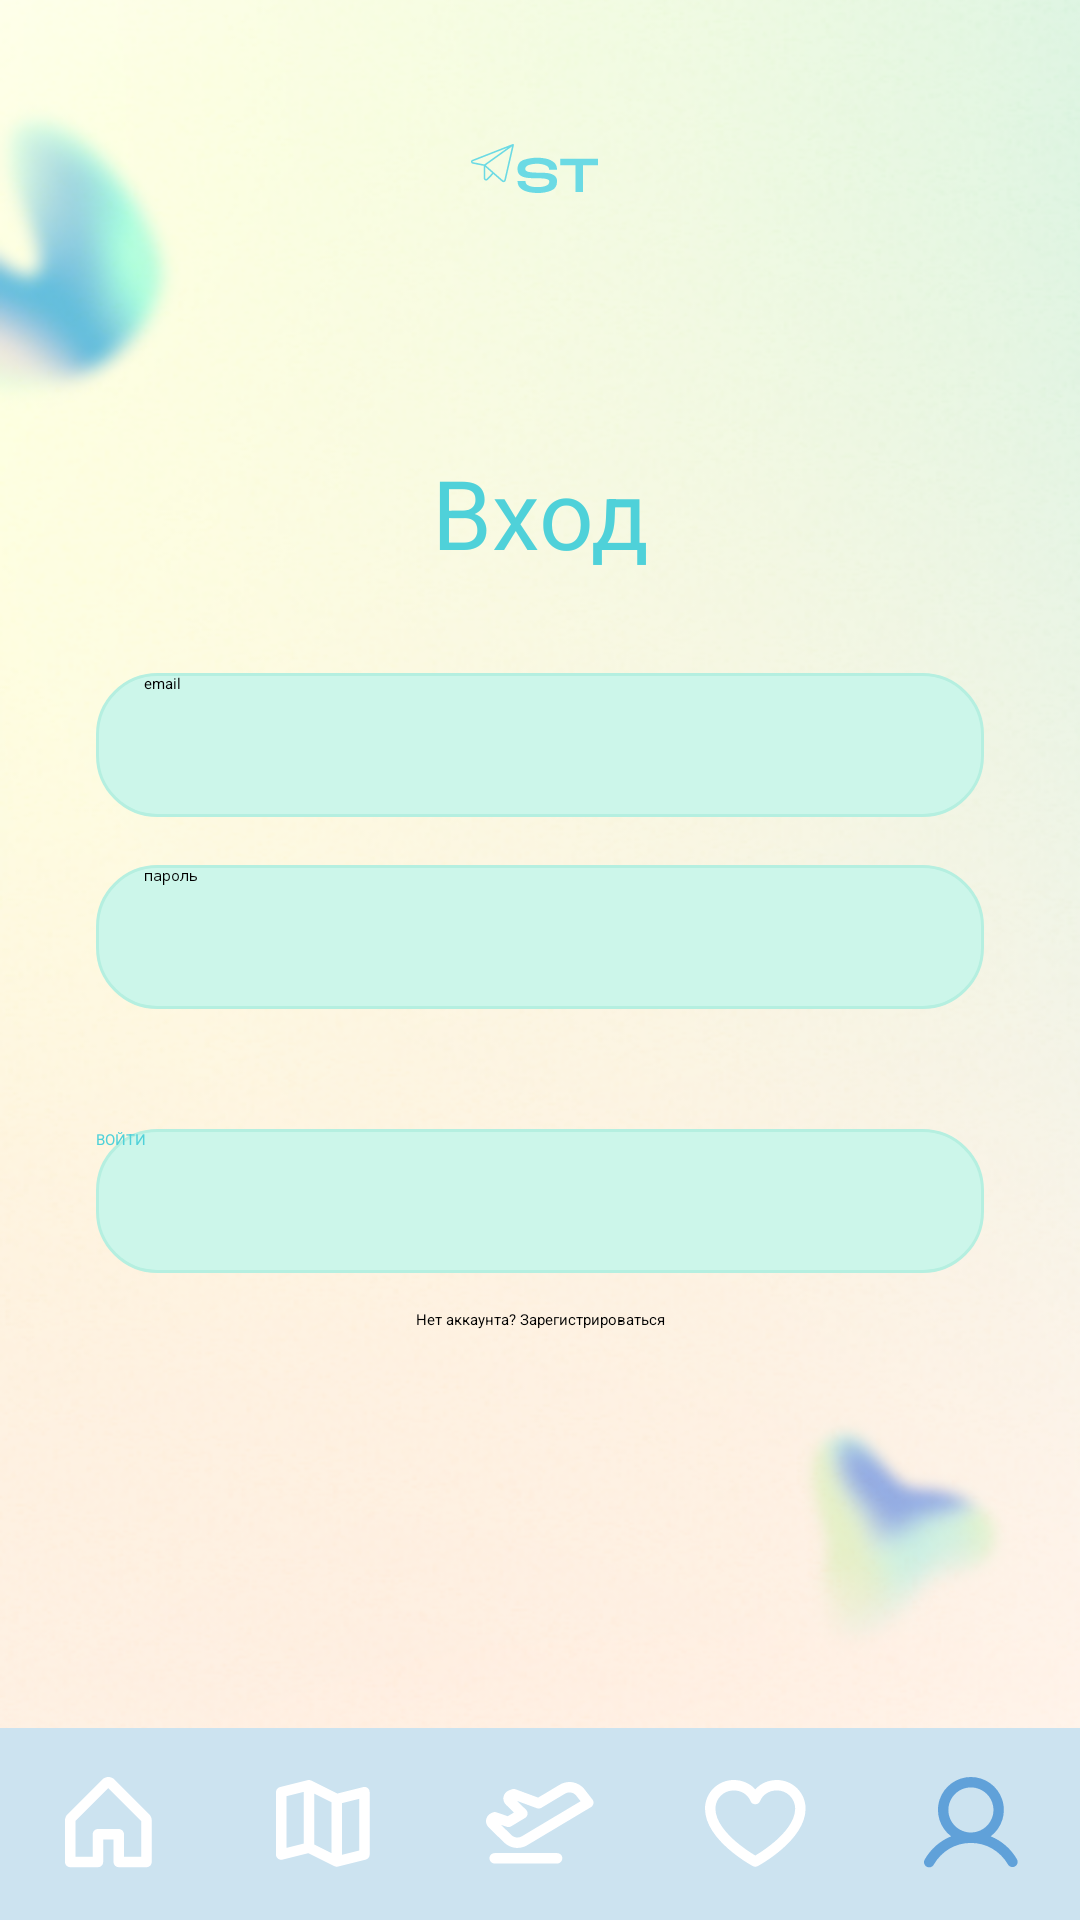

Named icons in this screenshot (1080px×1920px) and their centers, point (x, y):
heart: point (755, 1823)
house: point (108, 1822)
map: point (323, 1823)
plane: point (540, 1823)
user: point (971, 1822)
